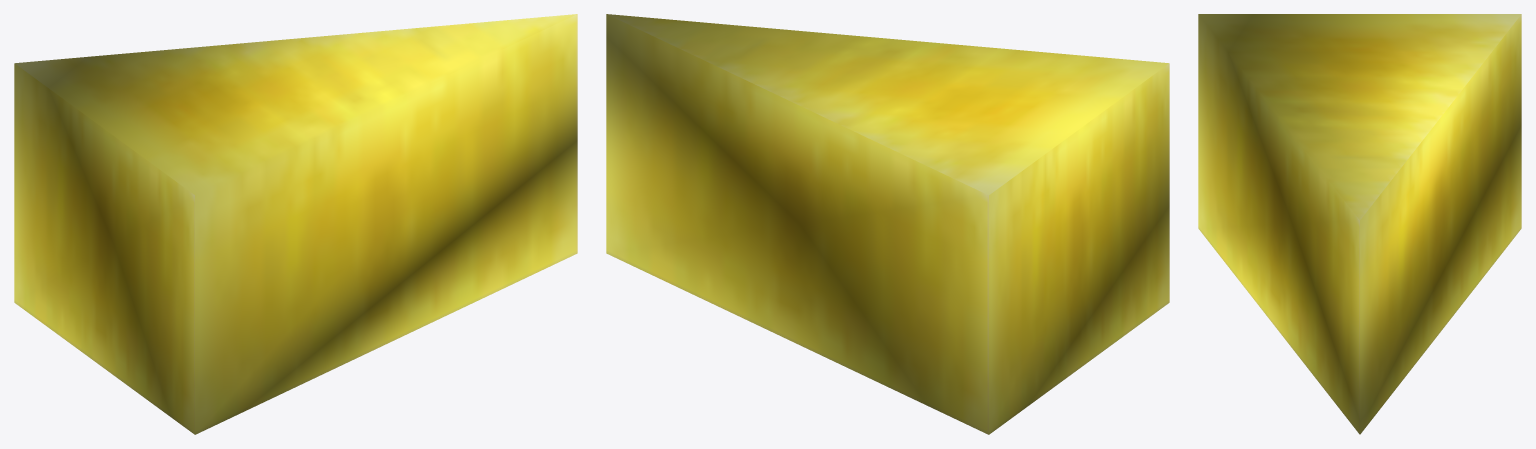
The model's file is cheesewedge01.obj.
3 renders of one model, left to right at view 1: azimuth 30°, elevation 25°; view 2: azimuth 150°, elevation 25°; view 3: azimuth 270°, elevation 25°, orthographic. The views are drawn at different scales.
Parts seen in each view (by area): view 1: cheesewedge01; view 2: cheesewedge01; view 3: cheesewedge01.
Part boxes in pixels (x1,y1,x2,y2): cheesewedge01: (14, 14, 577, 434); cheesewedge01: (606, 14, 1169, 434); cheesewedge01: (1198, 14, 1521, 434).
Bounding box in the file's own units: 0.0679 × 0.0328 × 0.0449.
Materials: 1 (1 with a texture image).
